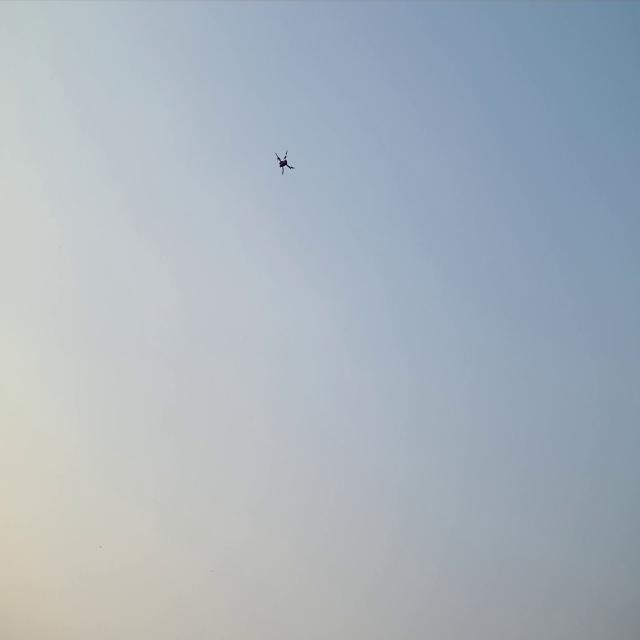UAV: (272, 148, 297, 178)
